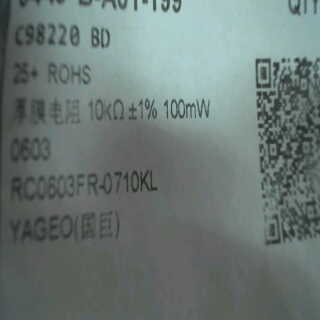10kR: (85, 97, 126, 124)
